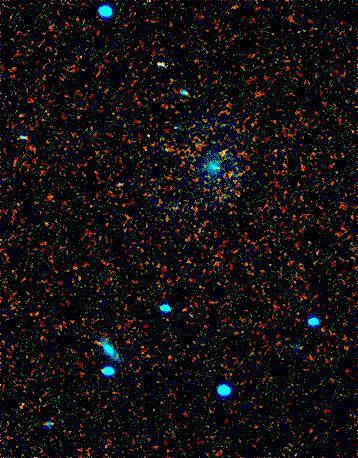star: (204, 161, 234, 191)
